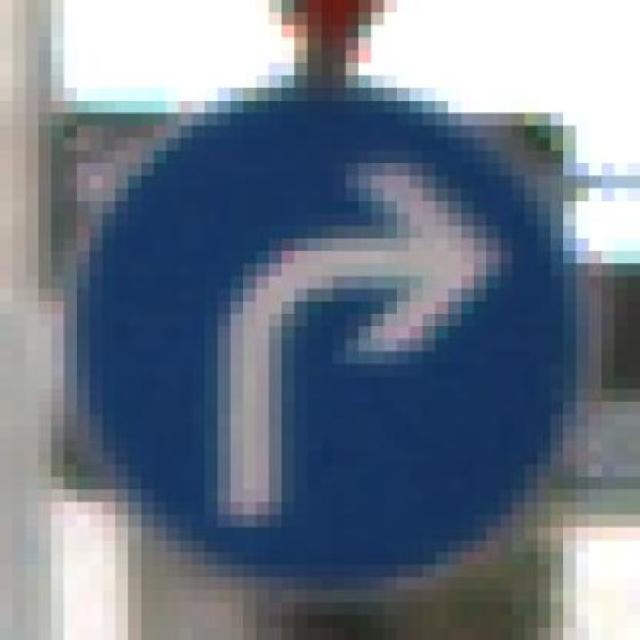Turn right ahead: (64, 62, 588, 615)
